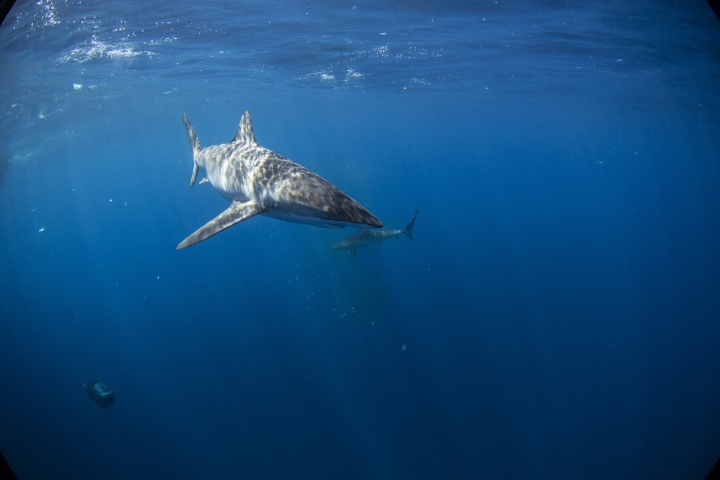Sedoso: (157, 102, 399, 261)
